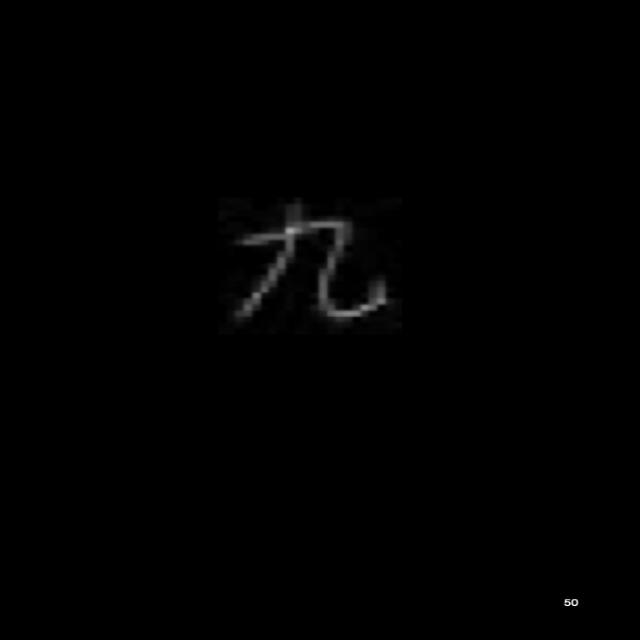9 -nine-: (220, 200, 400, 328)
